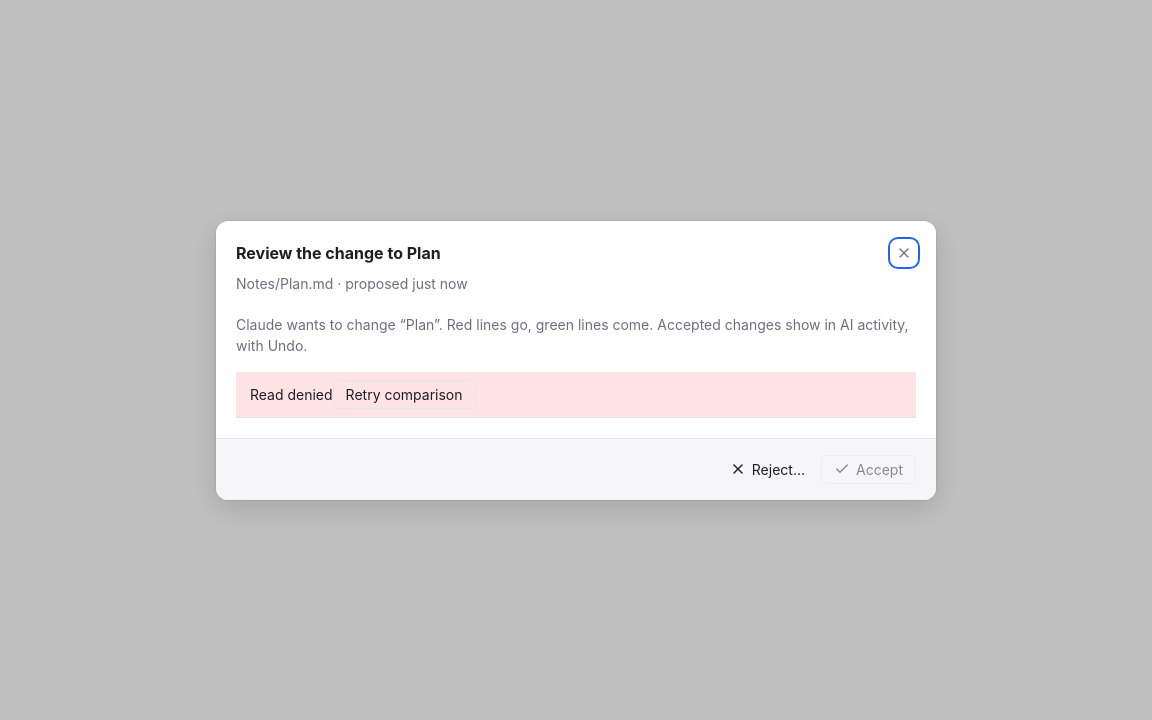
Scenario: retries failed comparisons without enabling acceptance of an unread file
Expected: the text "Read denied" is shown, [250,386,333,402]
Expected: the button "Accept" is disabled, [821,454,916,484]
Click the button "Retry comparison": (404, 394) [333,380,476,408]
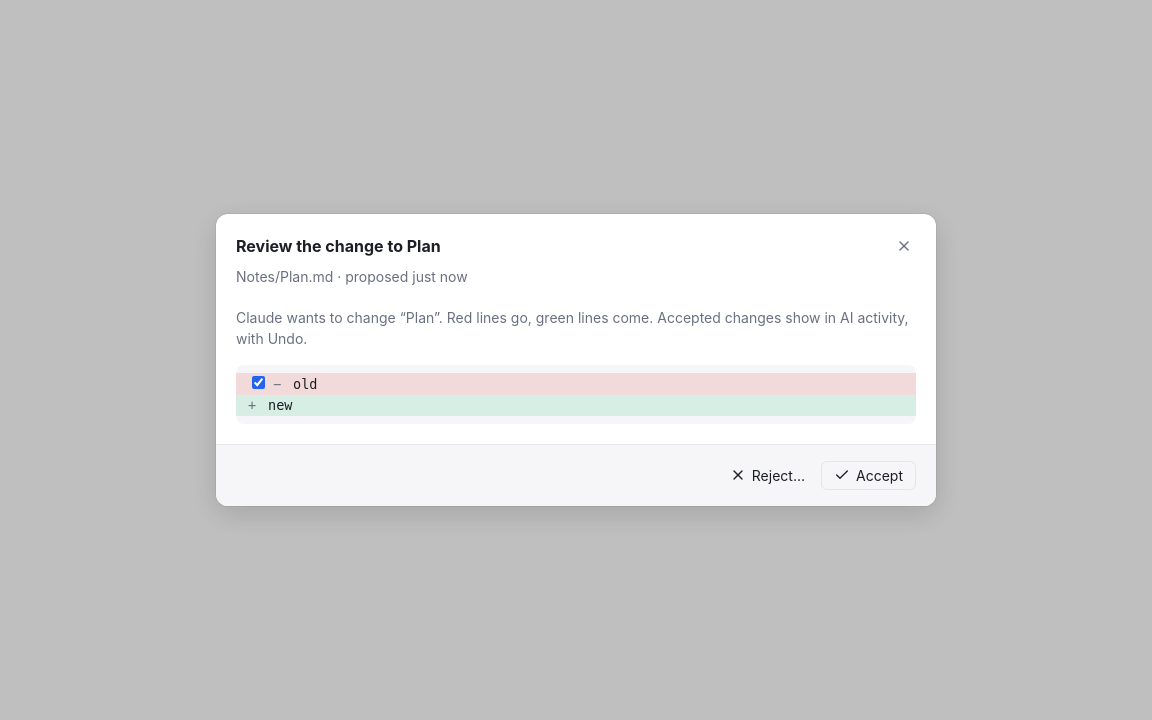
Expected: the button "Accept" is enabled, [821,461,916,490]
